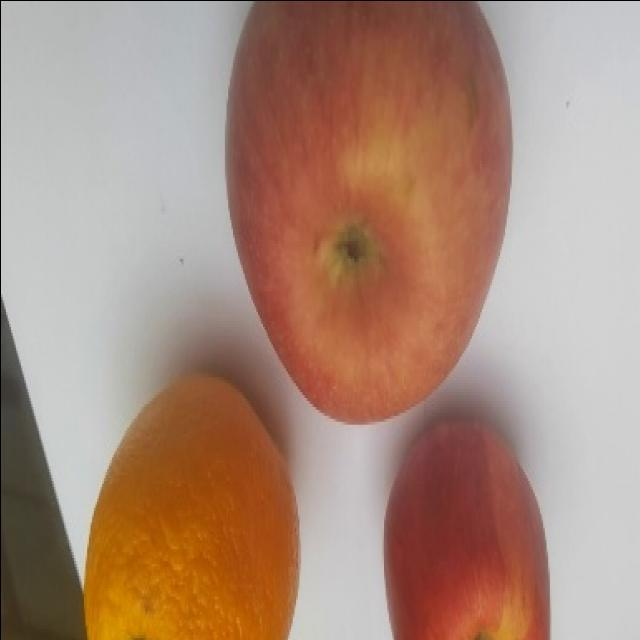Apple: (227, 0, 513, 428), (382, 416, 557, 640)
Orange: (80, 366, 300, 640)
